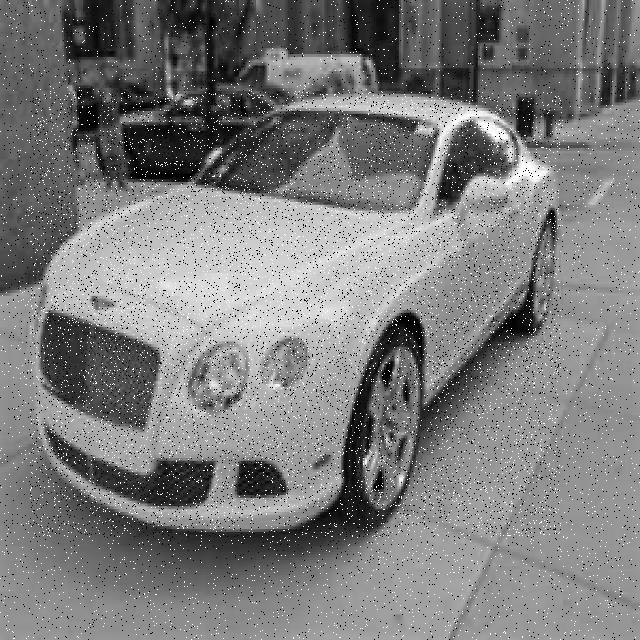Sedan: (30, 92, 561, 537)
